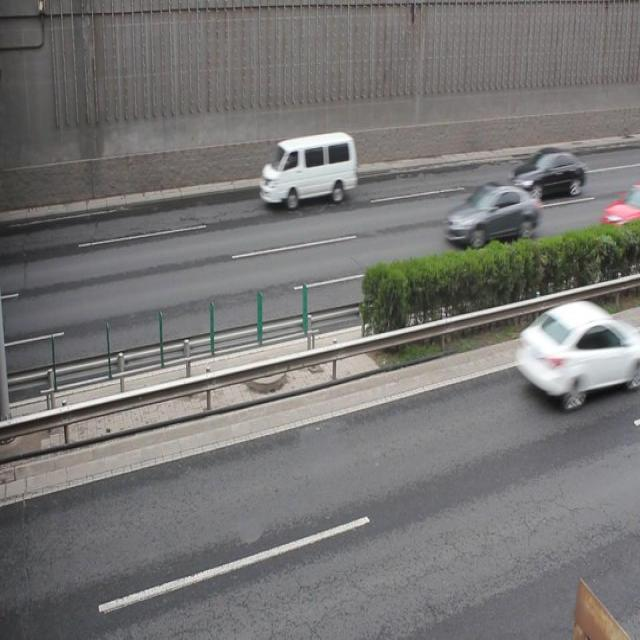car: (518, 302, 640, 406), (446, 181, 540, 246), (512, 150, 585, 200), (600, 183, 640, 227)
truck: (260, 134, 352, 206)
